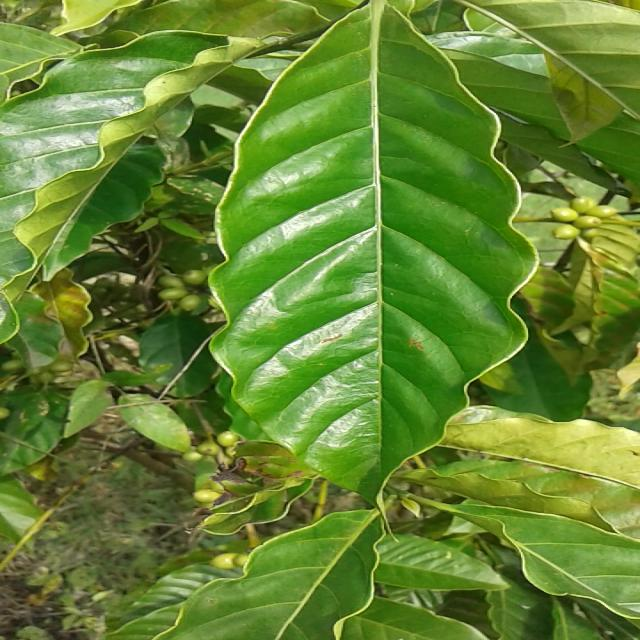Sanas: (209, 10, 536, 499)
